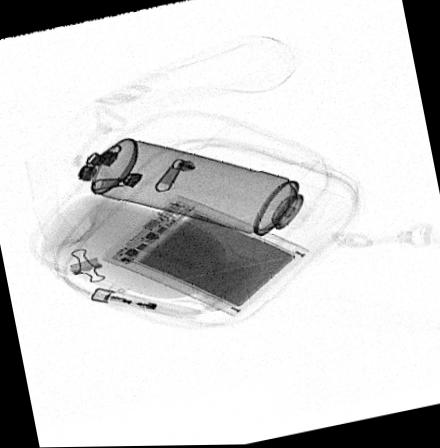Lighter: (89, 287, 203, 321)
Powerbank: (100, 193, 311, 317)
Sprayer: (90, 137, 349, 249)
